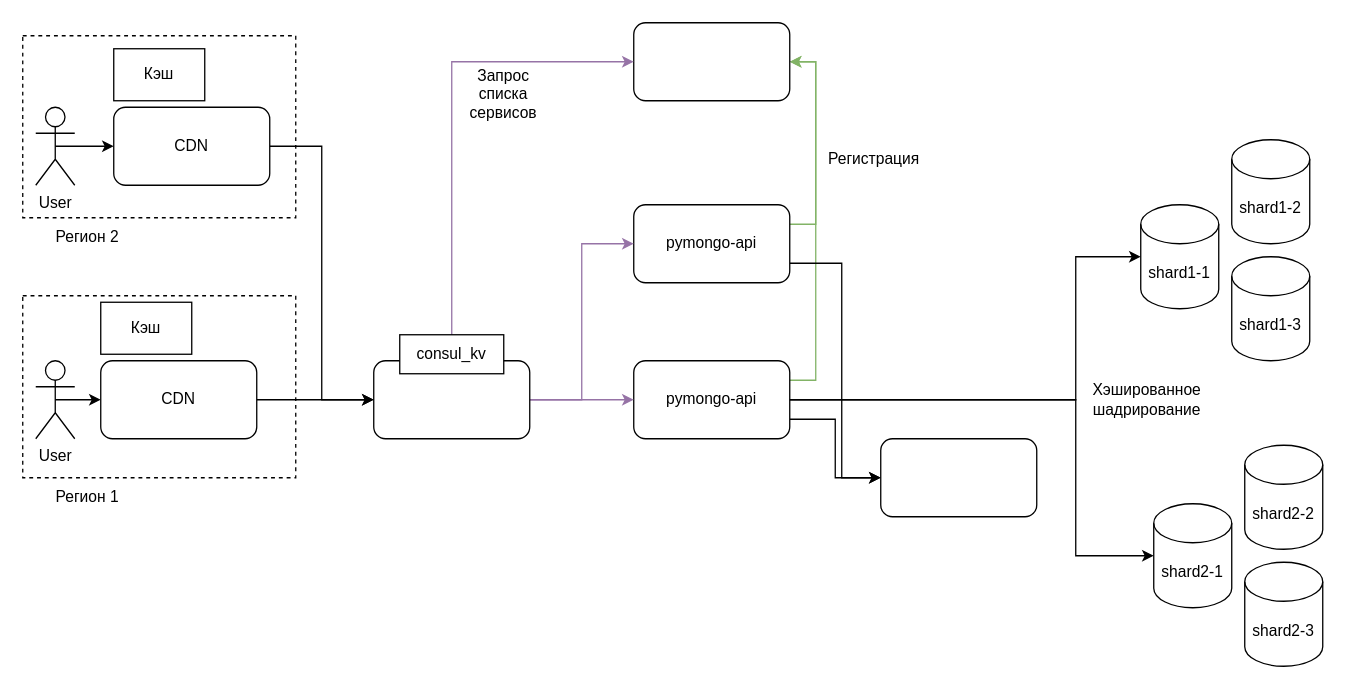
Some shapes in this 1346 by 689 pixel diagram are drawn without their labels. The shapes that lost their labels are listed below. From the top down, each one's box as (x1, y1, x2, y2) in pixels, then its label:
(632, 21, 790, 101): Consul
(372, 359, 530, 439): API Gateway
(879, 437, 1037, 517): Redis (redis_1 - redis_6)
